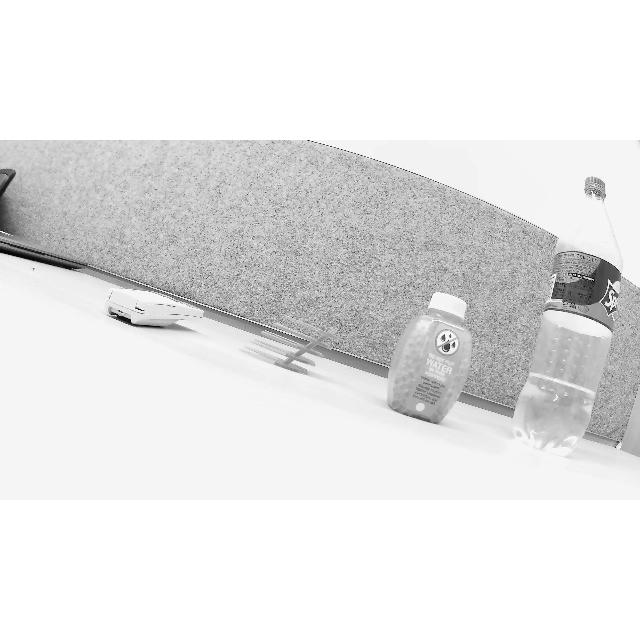targets: (512, 174, 620, 456), (392, 294, 482, 418), (245, 313, 338, 381), (110, 278, 202, 328)
